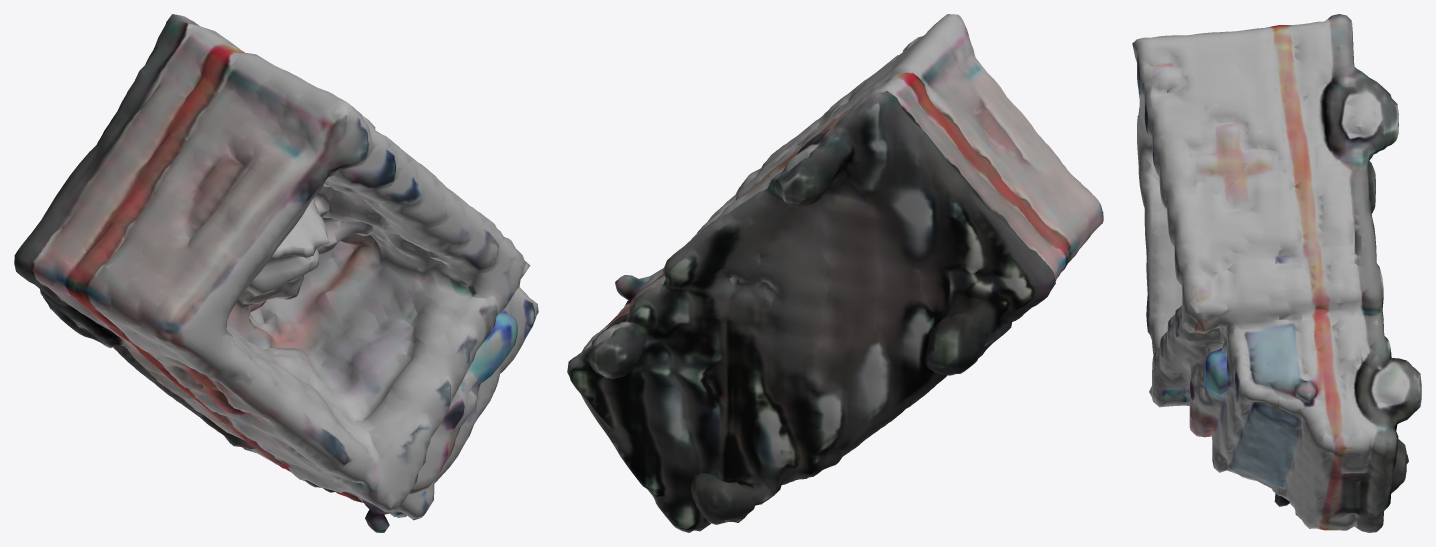
The model's file is ambulance-baked.glb.
3 renders of one model, left to right at view 1: azimuth 30°, elevation 25°; view 2: azimuth 150°, elevation 25°; view 3: azimuth 270°, elevation 25°, orthographic. The views are drawn at different scales.
Visible parts, largest first — view 1: mesh.glb; view 2: mesh.glb; view 3: mesh.glb.
Part boxes in pixels (x1,y1,x2,y2): mesh.glb: (14, 14, 538, 532); mesh.glb: (567, 14, 1103, 532); mesh.glb: (1132, 14, 1421, 532).
Bounding box in the file's own units: 0.8735 × 0.8739 × 0.5287.
Materials: 1 (1 with a texture image).
